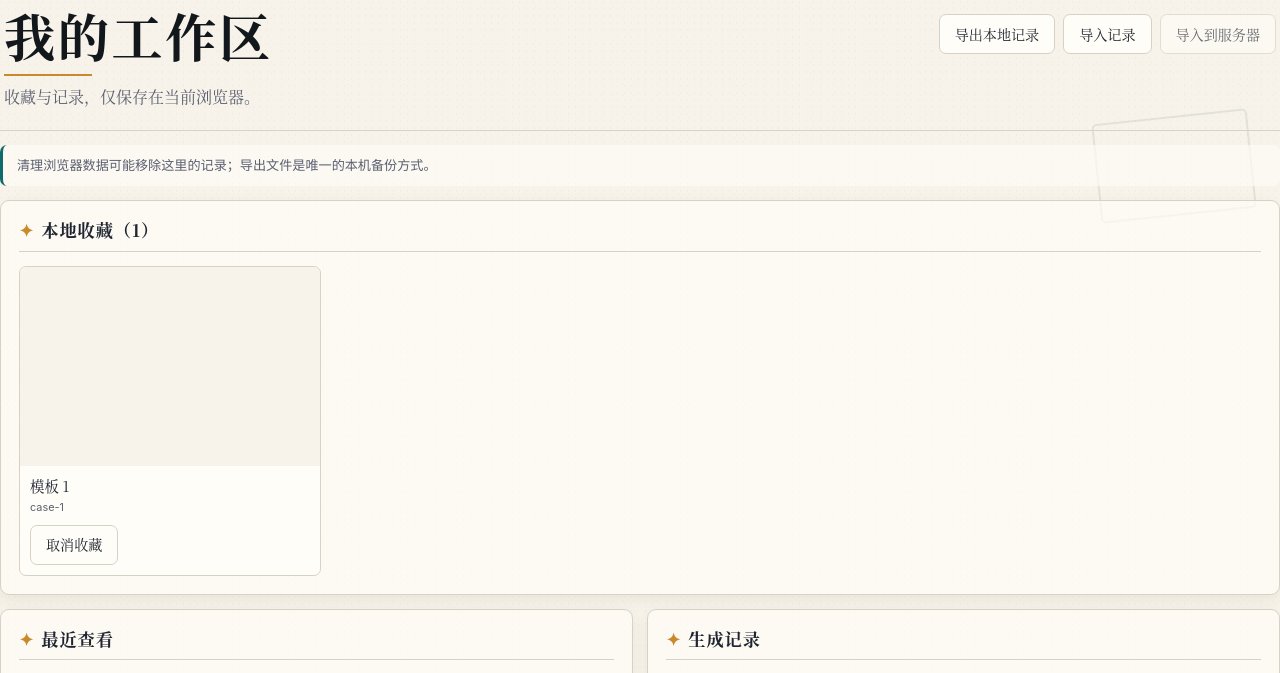
Test: WorkspacePage (U10) › lists favorited templates with an unfavorite action
The width and height of the screenshot is (1280, 673).
expect the link to "/studio/case-1" is shown: met, box [20,266,320,517]
Step 1. Click the button "取消收藏" → (74,545), box [30,525,118,565]
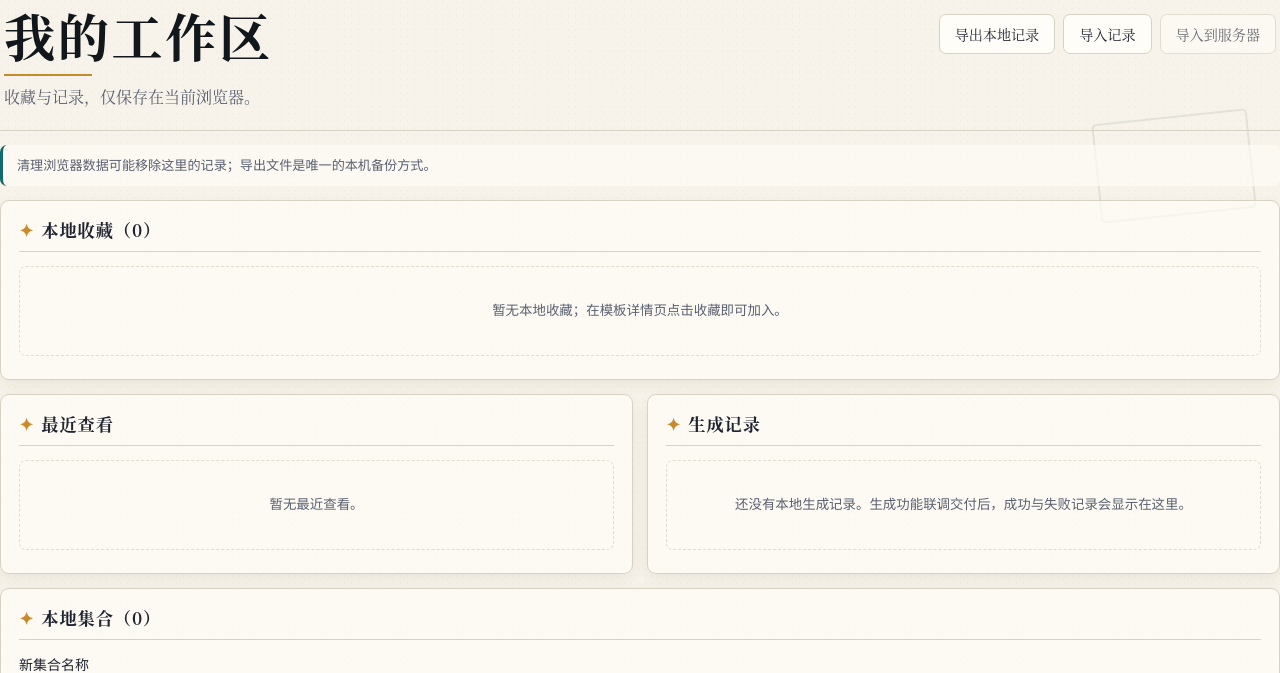
expect the text "暂无本地收藏" is shown: met, box [492,302,788,318]
